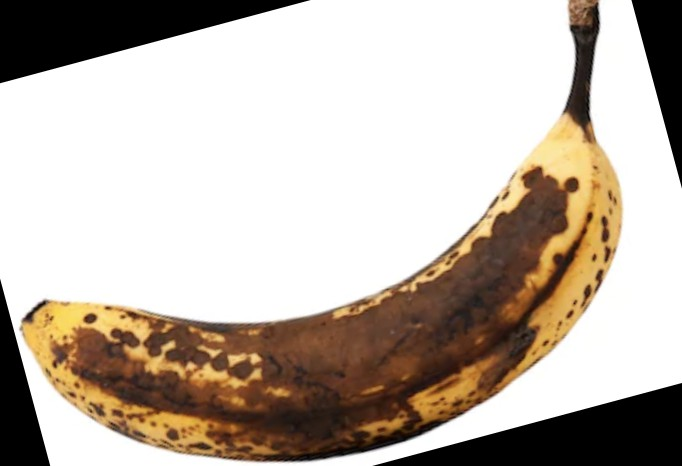rotten_banana: (21, 1, 622, 463)
